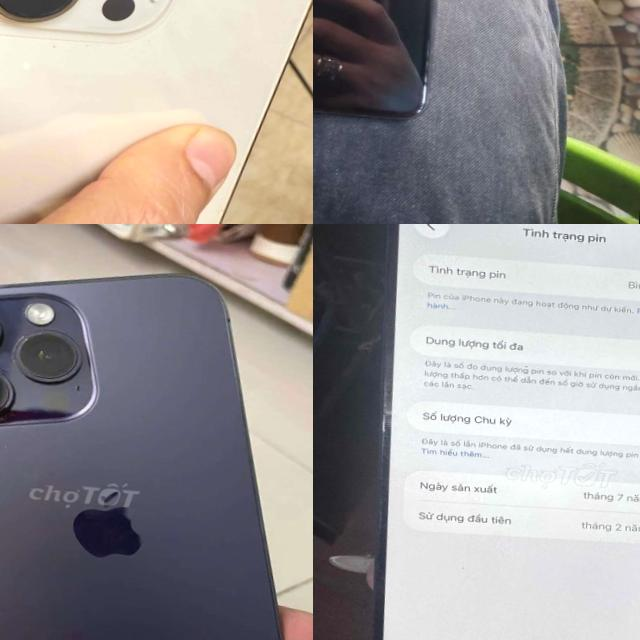gen_11: (313, 0, 463, 137)
gen_14: (0, 245, 313, 640), (0, 0, 313, 224)
gen_15: (341, 224, 640, 640)
scratch: (0, 321, 97, 399)
